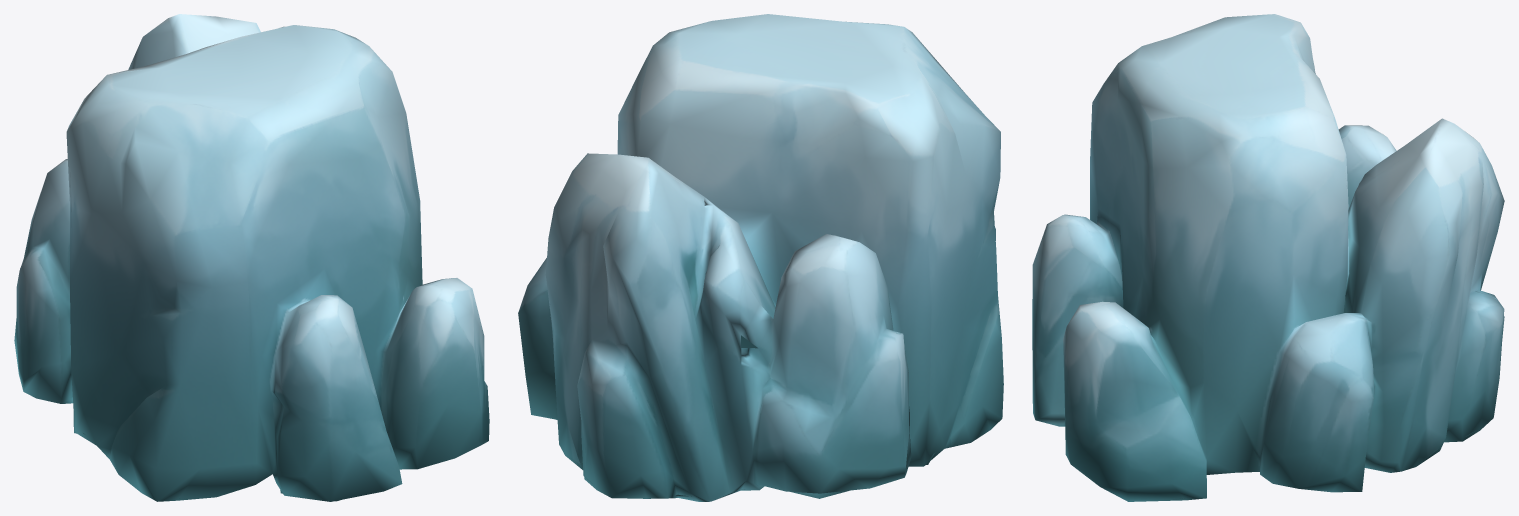
File: led-glyba-granenaya.glb
3 renders of one model, left to right at view 1: azimuth 30°, elevation 25°; view 2: azimuth 150°, elevation 25°; view 3: azimuth 270°, elevation 25°, orthographic. The views are drawn at different scales.
Parts seen in each view (by area): view 1: geometry_0; view 2: geometry_0; view 3: geometry_0.
Boxes of the visible parts, <box> form: geometry_0: <box>14,14,489,501</box>; geometry_0: <box>518,14,1003,501</box>; geometry_0: <box>1032,14,1504,501</box>.
Size of the model in its own units: 0.844 by 0.8117 by 0.9868.
Materials: 1 (1 with a texture image).
